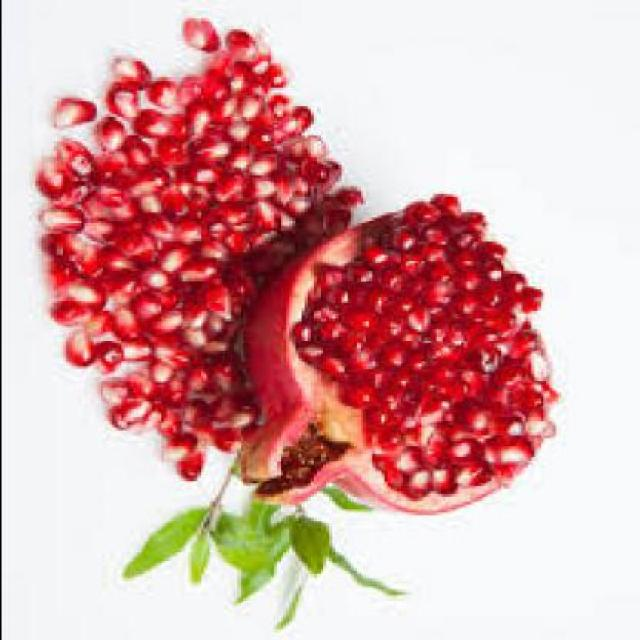BIODEGRADABLE: (245, 191, 563, 512), (122, 504, 212, 574), (107, 51, 150, 98), (184, 14, 227, 48), (128, 162, 174, 193), (190, 308, 227, 346), (190, 521, 212, 584), (56, 138, 96, 172), (113, 396, 156, 427), (62, 327, 98, 364), (67, 274, 107, 304), (110, 82, 141, 120), (56, 96, 98, 124), (226, 27, 263, 58), (205, 56, 230, 101), (52, 297, 92, 325), (40, 207, 86, 231), (94, 338, 126, 372), (214, 175, 254, 202), (100, 376, 138, 404), (180, 255, 218, 282), (64, 170, 96, 202), (95, 176, 128, 207), (212, 427, 254, 451), (138, 110, 174, 138), (229, 258, 254, 298), (208, 96, 240, 127), (92, 118, 125, 148), (141, 281, 181, 305), (144, 308, 184, 332), (226, 222, 260, 250), (316, 157, 346, 188), (76, 244, 107, 274), (107, 268, 138, 298), (238, 149, 276, 173), (86, 212, 122, 237), (214, 352, 246, 380), (113, 306, 141, 337), (202, 379, 236, 404), (276, 140, 306, 168), (150, 334, 181, 361), (226, 401, 260, 425), (209, 282, 233, 316), (235, 88, 263, 117), (248, 118, 275, 148), (40, 167, 68, 195), (169, 185, 196, 213), (193, 406, 218, 436), (166, 433, 200, 455), (178, 78, 202, 109), (101, 244, 128, 271), (138, 188, 165, 215), (162, 133, 187, 162), (147, 361, 181, 382), (205, 132, 233, 157), (190, 359, 212, 390), (300, 212, 325, 239), (224, 196, 251, 221), (125, 138, 150, 165), (125, 372, 153, 396), (128, 234, 160, 255), (138, 263, 168, 285), (144, 212, 174, 234), (122, 335, 153, 356), (328, 204, 352, 231), (153, 77, 175, 106), (278, 167, 300, 195), (284, 194, 318, 212), (244, 252, 276, 271), (303, 138, 328, 162), (162, 409, 187, 433), (181, 216, 202, 244), (227, 61, 248, 88), (196, 159, 224, 178), (101, 148, 125, 170), (337, 188, 368, 204), (175, 111, 193, 138), (272, 98, 294, 120), (266, 61, 288, 82), (254, 226, 278, 245), (153, 398, 172, 422), (49, 234, 74, 252), (266, 242, 294, 258), (184, 452, 205, 473), (119, 213, 144, 229), (294, 106, 312, 128), (190, 391, 212, 409), (175, 372, 193, 393), (275, 119, 288, 144), (263, 45, 272, 66)
